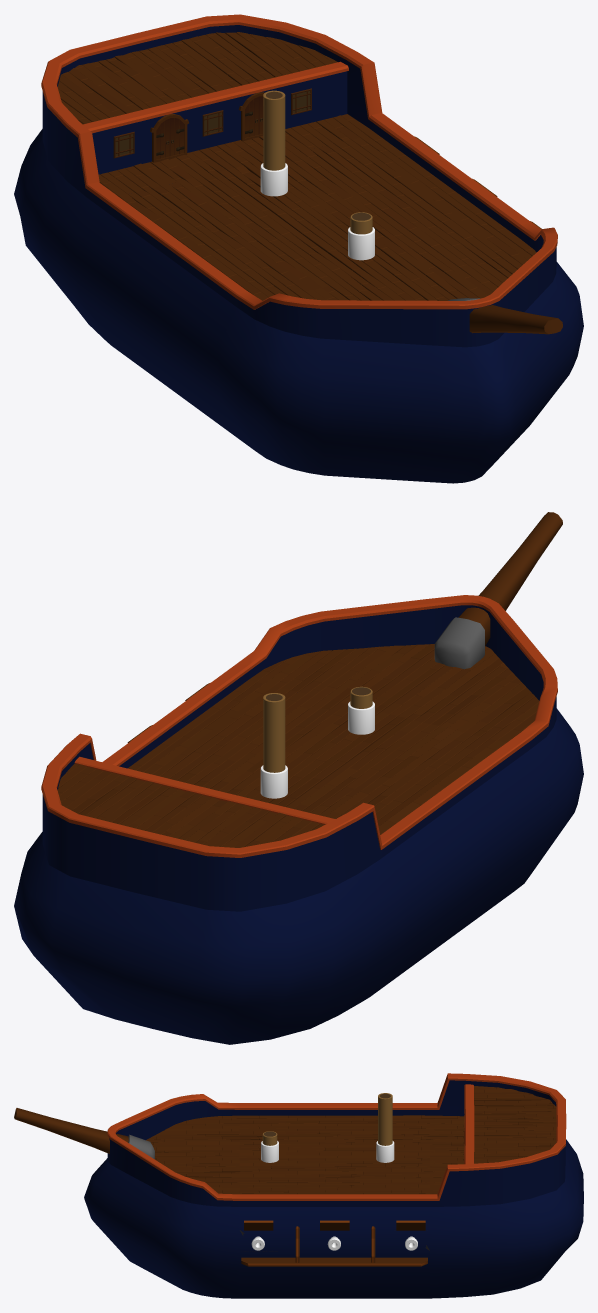
The model's file is Ships_parts_test (1).fbx.
The picture shows the model from 3 angles, top to bottom: view 1: azimuth 30°, elevation 25°; view 2: azimuth 150°, elevation 25°; view 3: azimuth 270°, elevation 25°; orthographic projection. The views are drawn at different scales.
Parts seen in each view (by area): view 1: Hull_Front, Hull_Center_Cannon, Hull_Rear_Cabin, Cylinder.153, Hull_Front.004, Cylinder.152, Hull_Center_Clear; view 2: Hull_Rear_Cabin, Hull_Center_Cannon, Hull_Front, Hull_Front.004, Cylinder.153, Cylinder.152, Hull_Center_Clear; view 3: Hull_Center_Cannon, Hull_Rear_Cabin, Hull_Front, Hull_Center_Clear, Hull_Front.004, Cylinder.153, Cylinder.152.
Boxes of the visible parts, x1,y1,x2,y2 form: Hull_Front: (218,222,583,483); Hull_Center_Cannon: (74,117,541,450); Hull_Rear_Cabin: (14,14,386,344); Cylinder.153: (260,90,287,196); Hull_Front.004: (448,298,562,334); Cylinder.152: (348,212,374,260); Hull_Center_Clear: (376,126,520,237); Hull_Rear_Cabin: (14,733,406,1044); Hull_Center_Cannon: (102,663,550,996); Hull_Front: (238,595,583,890); Hull_Front.004: (434,512,562,669); Cylinder.153: (260,693,287,798); Cylinder.152: (348,686,374,734); Hull_Center_Clear: (122,672,248,767); Hull_Center_Cannon: (239,1103,429,1298); Hull_Rear_Cabin: (430,1073,583,1298); Hull_Front: (84,1094,239,1298); Hull_Center_Clear: (239,1201,429,1298); Hull_Front.004: (14,1108,154,1159); Cylinder.153: (376,1093,394,1162); Cylinder.152: (261,1131,278,1162).
Bounding box in the file's own units: 25 × 16.61 × 53.41.
